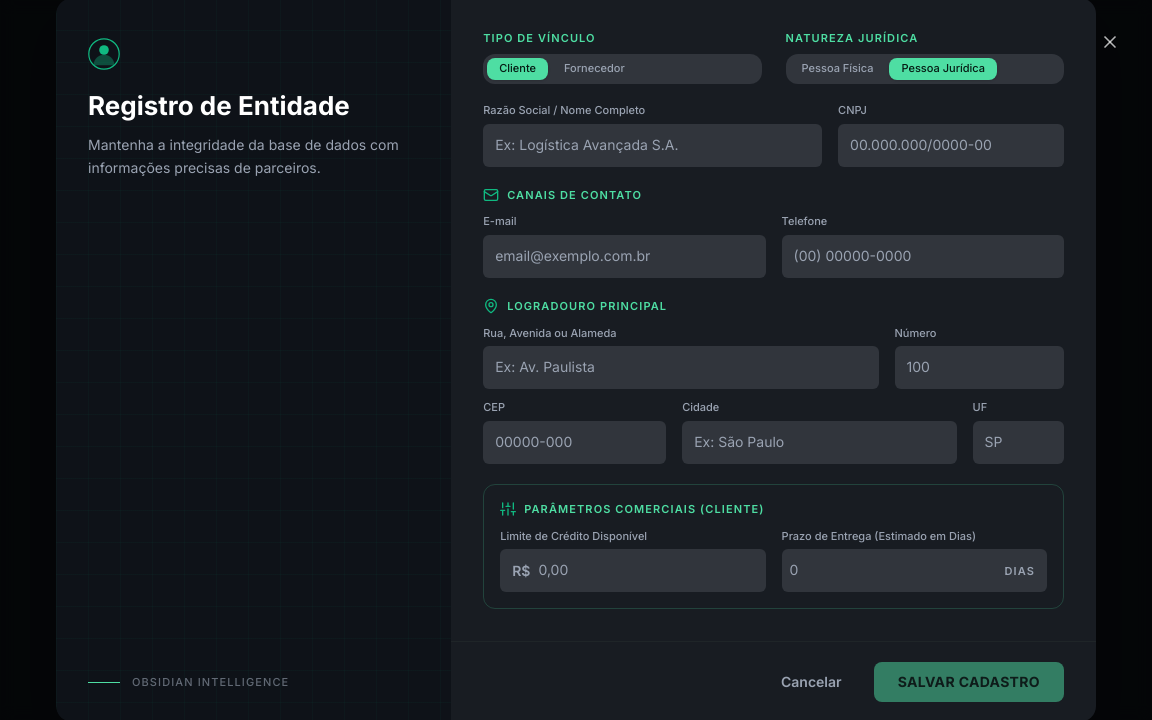
Test: EntityFormModal 3.1 — Campo nome com label dinâmico › placeholder muda para pessoa física ao alternar
Click the button "Pessoa Física" at (838, 69), box x1=790 y1=58 x2=886 y2=80
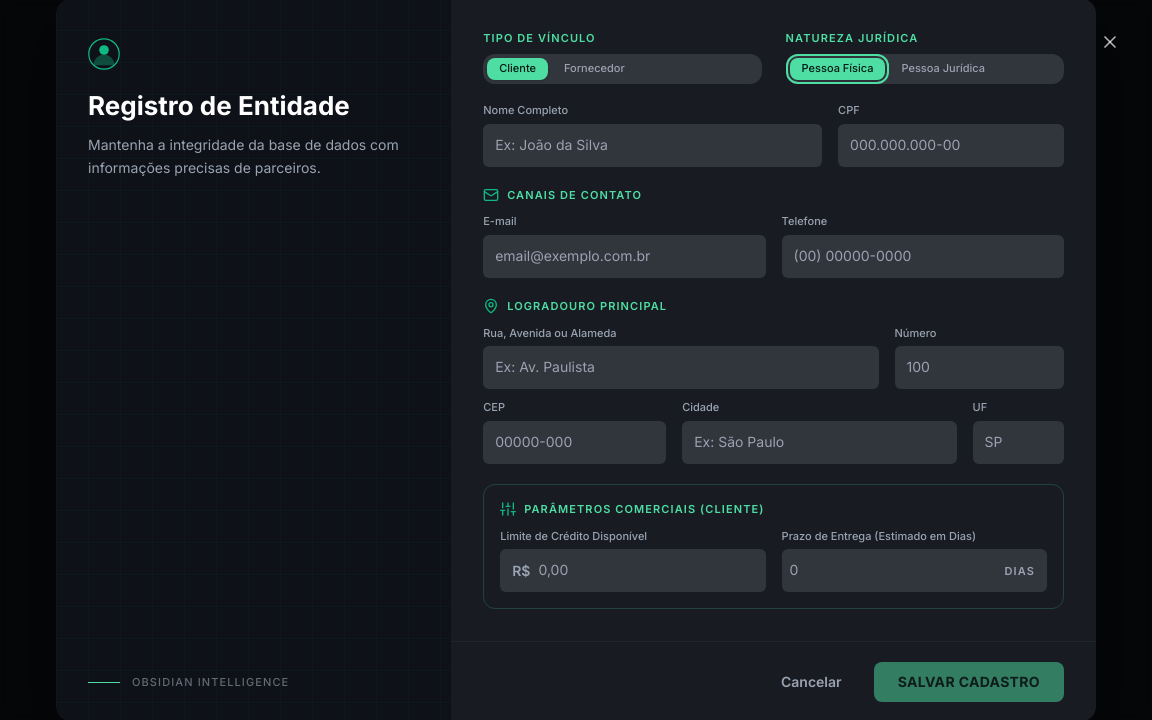
Now the field with placeholder "Ex: João da Silva" is shown, box x1=495 y1=124 x2=810 y2=167
